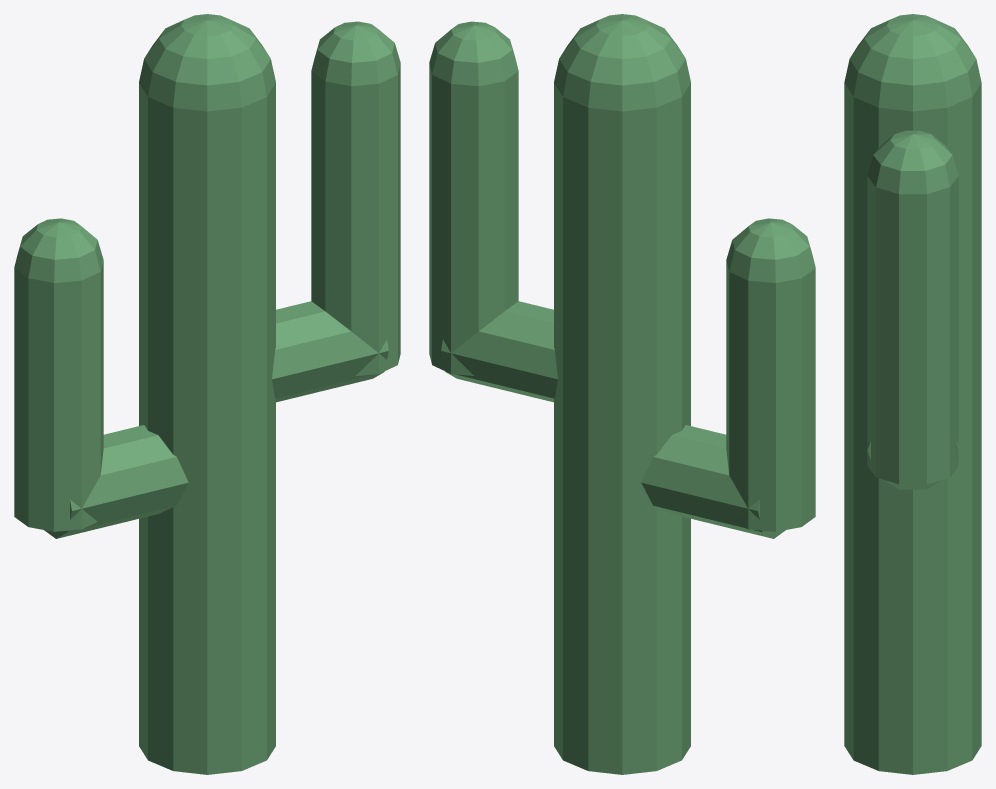
File: Cactus.glb
3 renders of one model, left to right at view 1: azimuth 30°, elevation 25°; view 2: azimuth 150°, elevation 25°; view 3: azimuth 270°, elevation 25°, orthographic.
Parts seen in each view (by area): view 1: Cactus; view 2: Cactus; view 3: Cactus.
Part boxes in pixels (bbox=[...]): Cactus: bbox=[14, 14, 400, 774]; Cactus: bbox=[429, 14, 815, 774]; Cactus: bbox=[844, 14, 981, 774].
Bounding box in the file's own units: 1.88 × 3.5 × 0.6.
